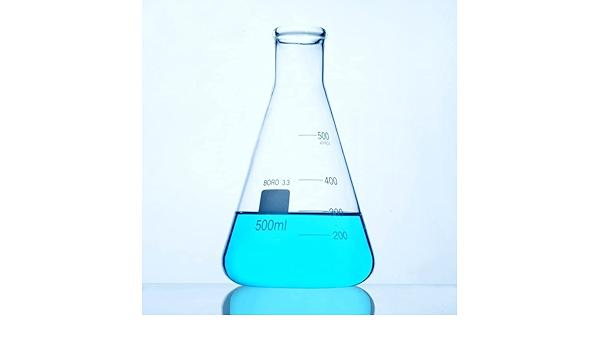Titrarion: (223, 16, 379, 289)
